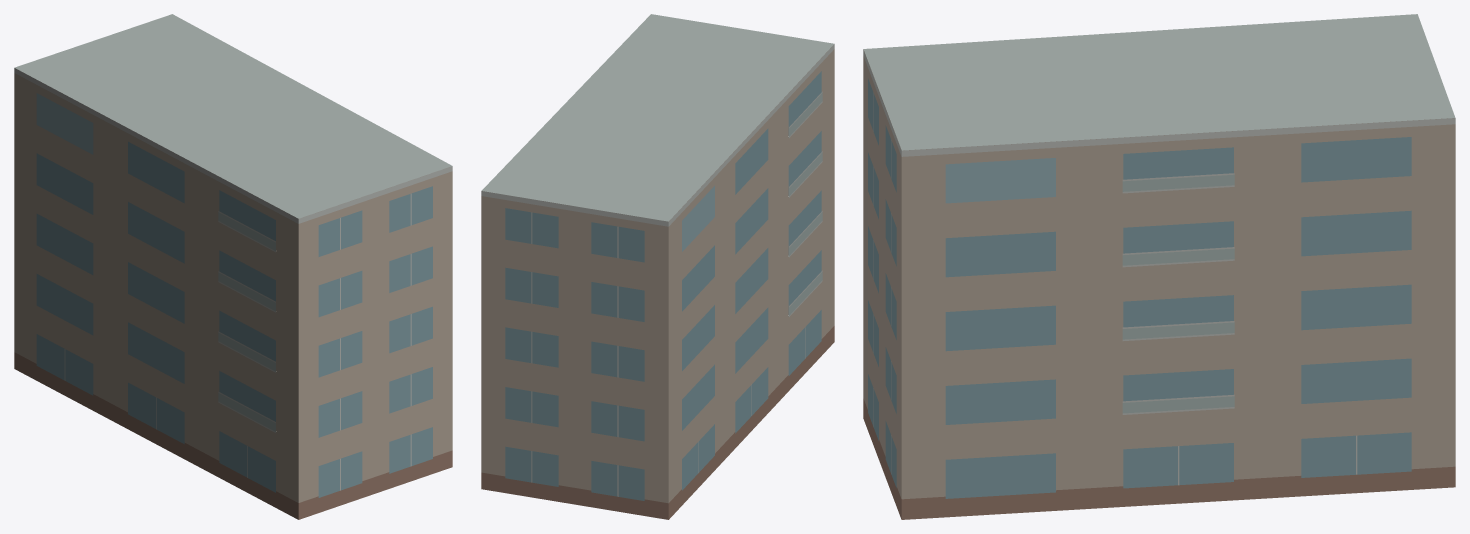
Rendered from survey-upis-32957214.glb.
3 renders of one model, left to right at view 1: azimuth 30°, elevation 25°; view 2: azimuth 150°, elevation 25°; view 3: azimuth 270°, elevation 25°, orthographic. The views are drawn at different scales.
Parts seen in each view (by area): view 1: survey-upis-32957214.tmp; view 2: survey-upis-32957214.tmp; view 3: survey-upis-32957214.tmp.
Part boxes in pixels (x1,y1,x2,y2): survey-upis-32957214.tmp: [14, 14, 452, 519]; survey-upis-32957214.tmp: [481, 14, 834, 519]; survey-upis-32957214.tmp: [863, 14, 1455, 519].
Bounding box in the file's own units: 11.27 × 14.2 × 20.64.
